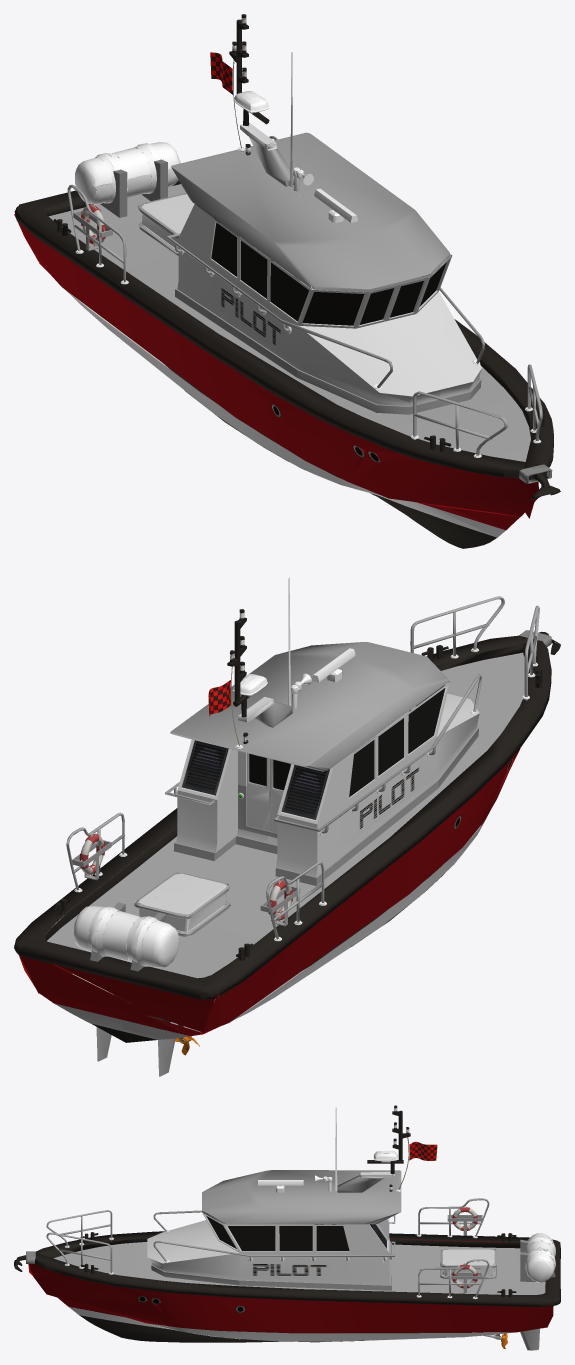
File: boat_pilot.glb
3 views of the same model, one above another, from view 1: azimuth 30°, elevation 25°; view 2: azimuth 150°, elevation 25°; view 3: azimuth 270°, elevation 25° (orthographic). The views are drawn at different scales.
Visible parts, largest first — view 1: Object_16, Object_19, Object_15, Object_12, Object_22, Object_20, Object_11, Object_18, Object_7; view 2: Object_16, Object_12, Object_19, Object_22, Object_15, Object_11, Object_20, Object_17, Object_7, Object_9, Object_13, Object_18; view 3: Object_15, Object_16, Object_12, Object_19, Object_22, Object_20, Object_11, Object_18, Object_5, Object_7, Object_13, Object_9.
Boxes of the visible parts, box(x1,y1,x2,y2) form: Object_16: box(63, 123, 505, 537); Object_19: box(175, 204, 481, 414); Object_15: box(14, 214, 538, 530); Object_12: box(14, 14, 560, 548); Object_22: box(16, 136, 542, 461); Object_20: box(211, 222, 446, 325); Object_11: box(75, 52, 299, 254); Object_18: box(96, 159, 552, 483); Object_7: box(96, 91, 541, 457); Object_16: box(53, 642, 488, 1076); Object_12: box(14, 609, 560, 1042); Object_19: box(174, 681, 479, 885); Object_22: box(47, 596, 539, 996); Object_15: box(14, 748, 520, 1036); Object_11: box(73, 577, 323, 968); Object_20: box(249, 685, 445, 797); Object_17: box(182, 740, 329, 819); Object_7: box(94, 648, 538, 925); Object_9: box(74, 648, 430, 941); Object_13: box(81, 833, 292, 921); Object_18: box(90, 630, 551, 971); Object_15: box(28, 1239, 553, 1333); Object_16: box(68, 1170, 546, 1350); Object_12: box(14, 1105, 560, 1342); Object_19: box(147, 1212, 391, 1290); Object_22: box(46, 1198, 545, 1297); Object_20: box(206, 1216, 349, 1250); Object_11: box(279, 1107, 555, 1282); Object_18: box(26, 1239, 555, 1281); Object_5: box(409, 1141, 437, 1160); Object_7: box(65, 1151, 452, 1298); Object_13: box(451, 1206, 479, 1287); Object_9: box(248, 1180, 477, 1299).
Bounding box in the file's own units: 4.44 × 7.65 × 16.
17 materials, 16 textured.
